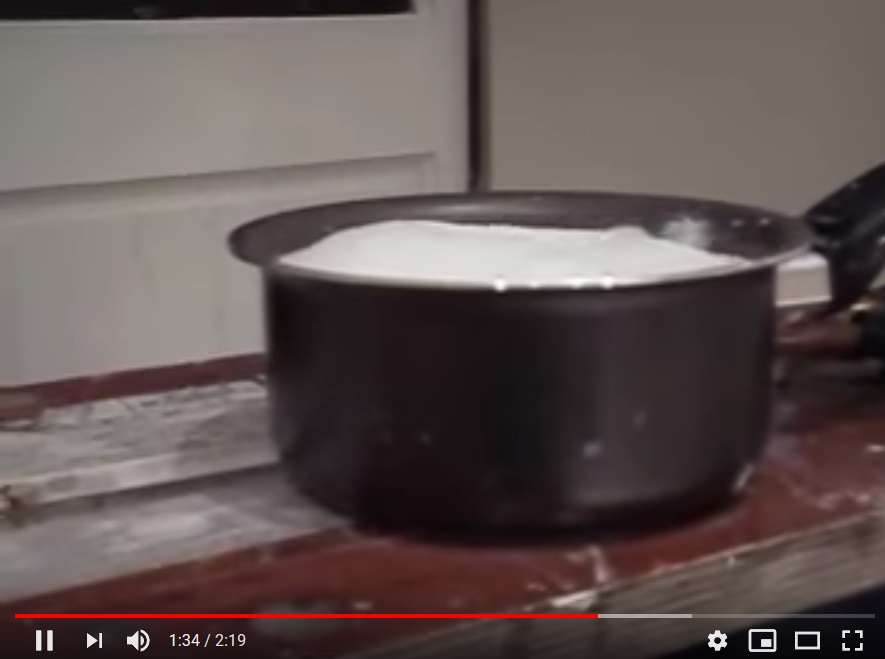Steaming: (214, 179, 811, 493)
